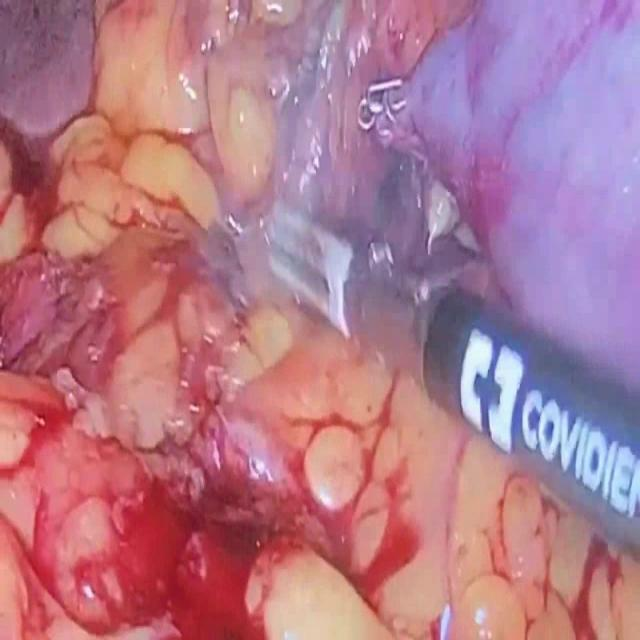surgical-area: (0, 0, 640, 639)
surgical-tool: (252, 184, 640, 560)
